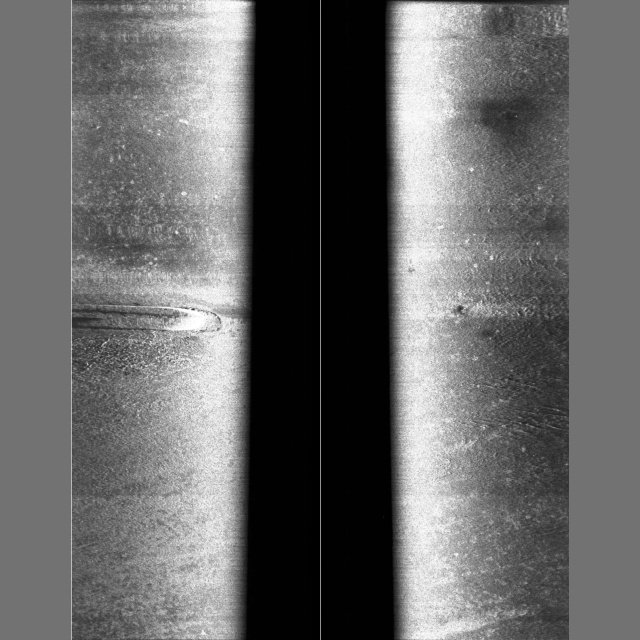Shipwreck: (71, 303, 218, 331)
